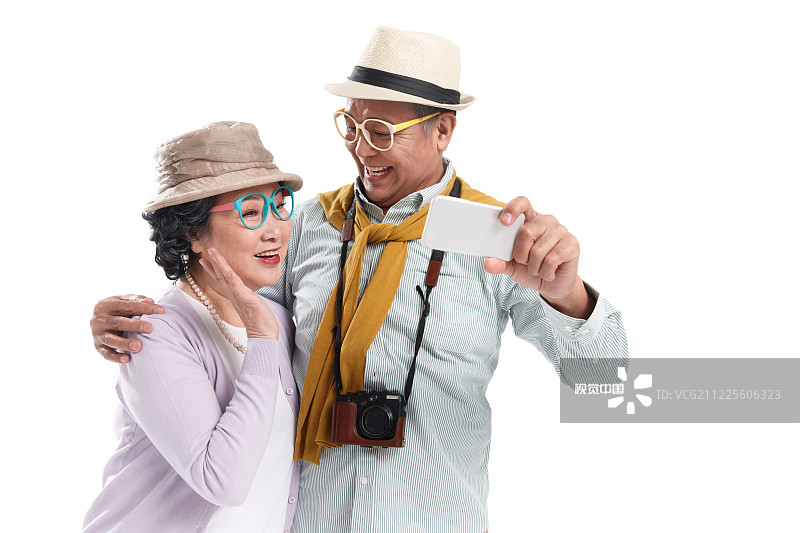no-phone: (186, 238, 295, 357)
taking photos: (440, 178, 590, 310)
